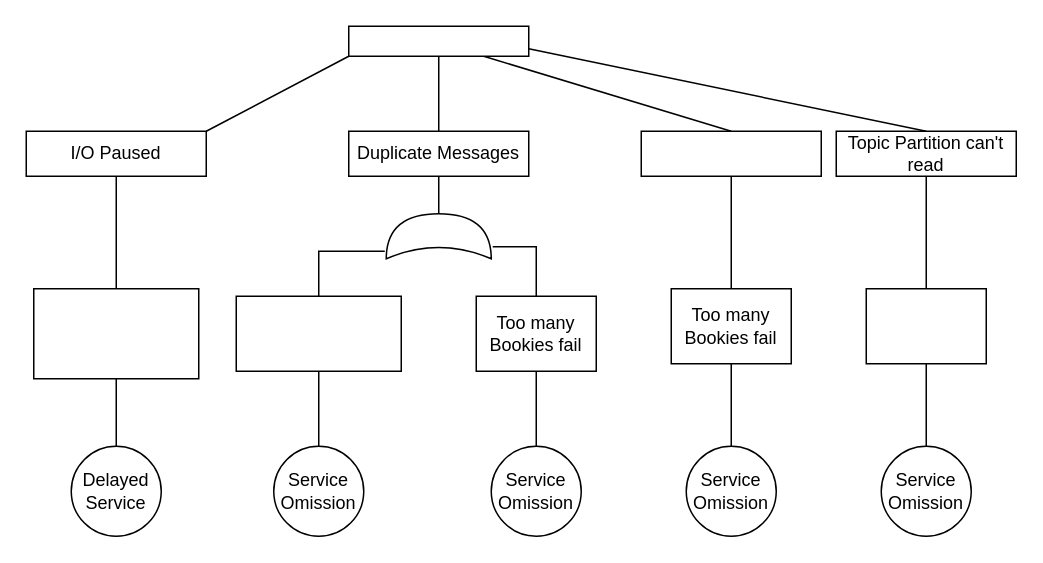
Image size: 1043x563. Some labels were removed from this diagram. Here are the shapes that lost their labels. From the top down, the centre of each, then its label:
At (x=438, y=40): "Pulsar".
At (x=730, y=153): "Topic Partition can't write".
At (x=115, y=333): "Pulsar restarts due to loss of connection with Zookeeper".
At (x=318, y=333): "Broker loses connection with Zookeeper".
At (x=925, y=325): "No Brokers available".
